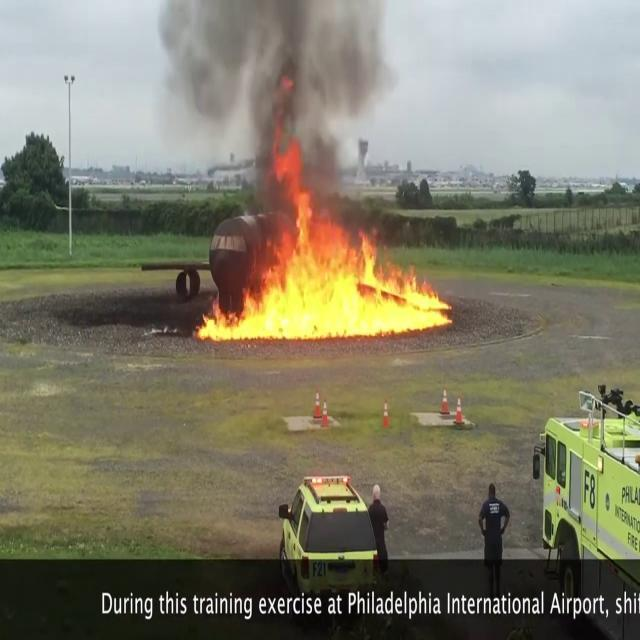Fire: (200, 206, 452, 344)
Smoke: (154, 0, 390, 212)
